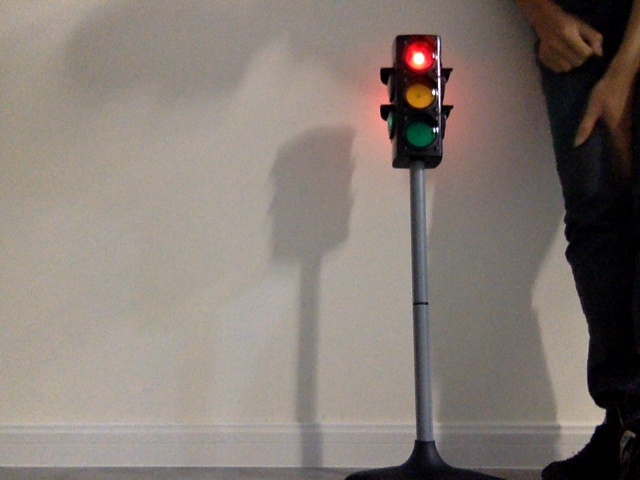red: (397, 40, 439, 155)
